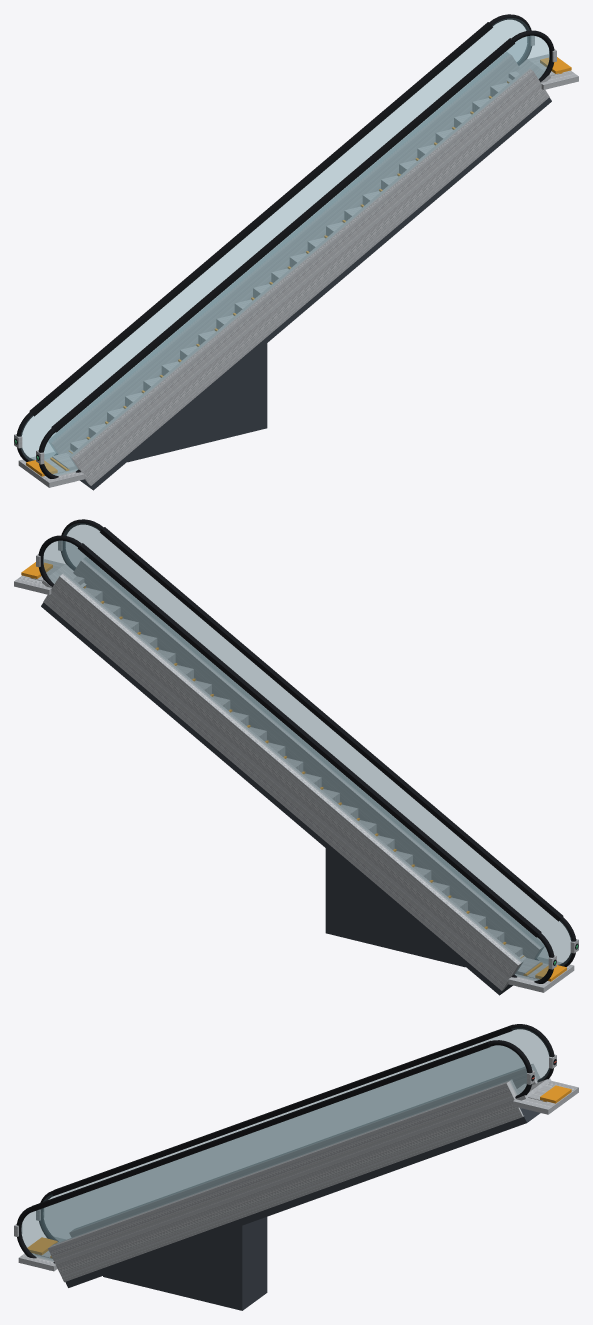
Rendered from escalator.glb.
The picture shows the model from 3 angles, top to bottom: view 1: azimuth 30°, elevation 25°; view 2: azimuth 150°, elevation 25°; view 3: azimuth 330°, elevation 25°; orthographic projection.
Visible parts, largest first — view 1: escalator-balustrade (×2), side-skirt (×2), canonical-yaw, undercroft, truss, landing-deck; view 2: escalator-balustrade (×2), side-skirt (×2), canonical-yaw, undercroft, truss, landing-deck; view 3: escalator-balustrade (×2), side-skirt (×2), canonical-yaw, undercroft, truss, landing-deck (×2).
Boxes of the visible parts, x1=… form: escalator-balustrade (×2): x1=21, y1=18, x2=549, y2=475; side-skirt (×2): x1=48, y1=52, x2=549, y2=485; canonical-yaw: x1=16, y1=14, x2=562, y2=478; undercroft: x1=127, y1=343, x2=267, y2=462; truss: x1=80, y1=97, x2=551, y2=490; landing-deck: x1=18, y1=452, x2=84, y2=487; escalator-balustrade (×2): x1=43, y1=523, x2=571, y2=980; side-skirt (×2): x1=43, y1=557, x2=544, y2=990; canonical-yaw: x1=30, y1=519, x2=576, y2=983; undercroft: x1=325, y1=848, x2=465, y2=967; truss: x1=41, y1=602, x2=512, y2=995; landing-deck: x1=508, y1=957, x2=574, y2=992; escalator-balustrade (×2): x1=21, y1=1028, x2=549, y2=1261; side-skirt (×2): x1=48, y1=1064, x2=540, y2=1282; canonical-yaw: x1=16, y1=1024, x2=554, y2=1270; undercroft: x1=103, y1=1217, x2=267, y2=1310; truss: x1=65, y1=1108, x2=540, y2=1287; landing-deck (×2): x1=18, y1=1080, x2=578, y2=1271.
Size of the model in its own units: 10.13 by 6.35 by 1.
Materials: 7 (1 with a texture image).
